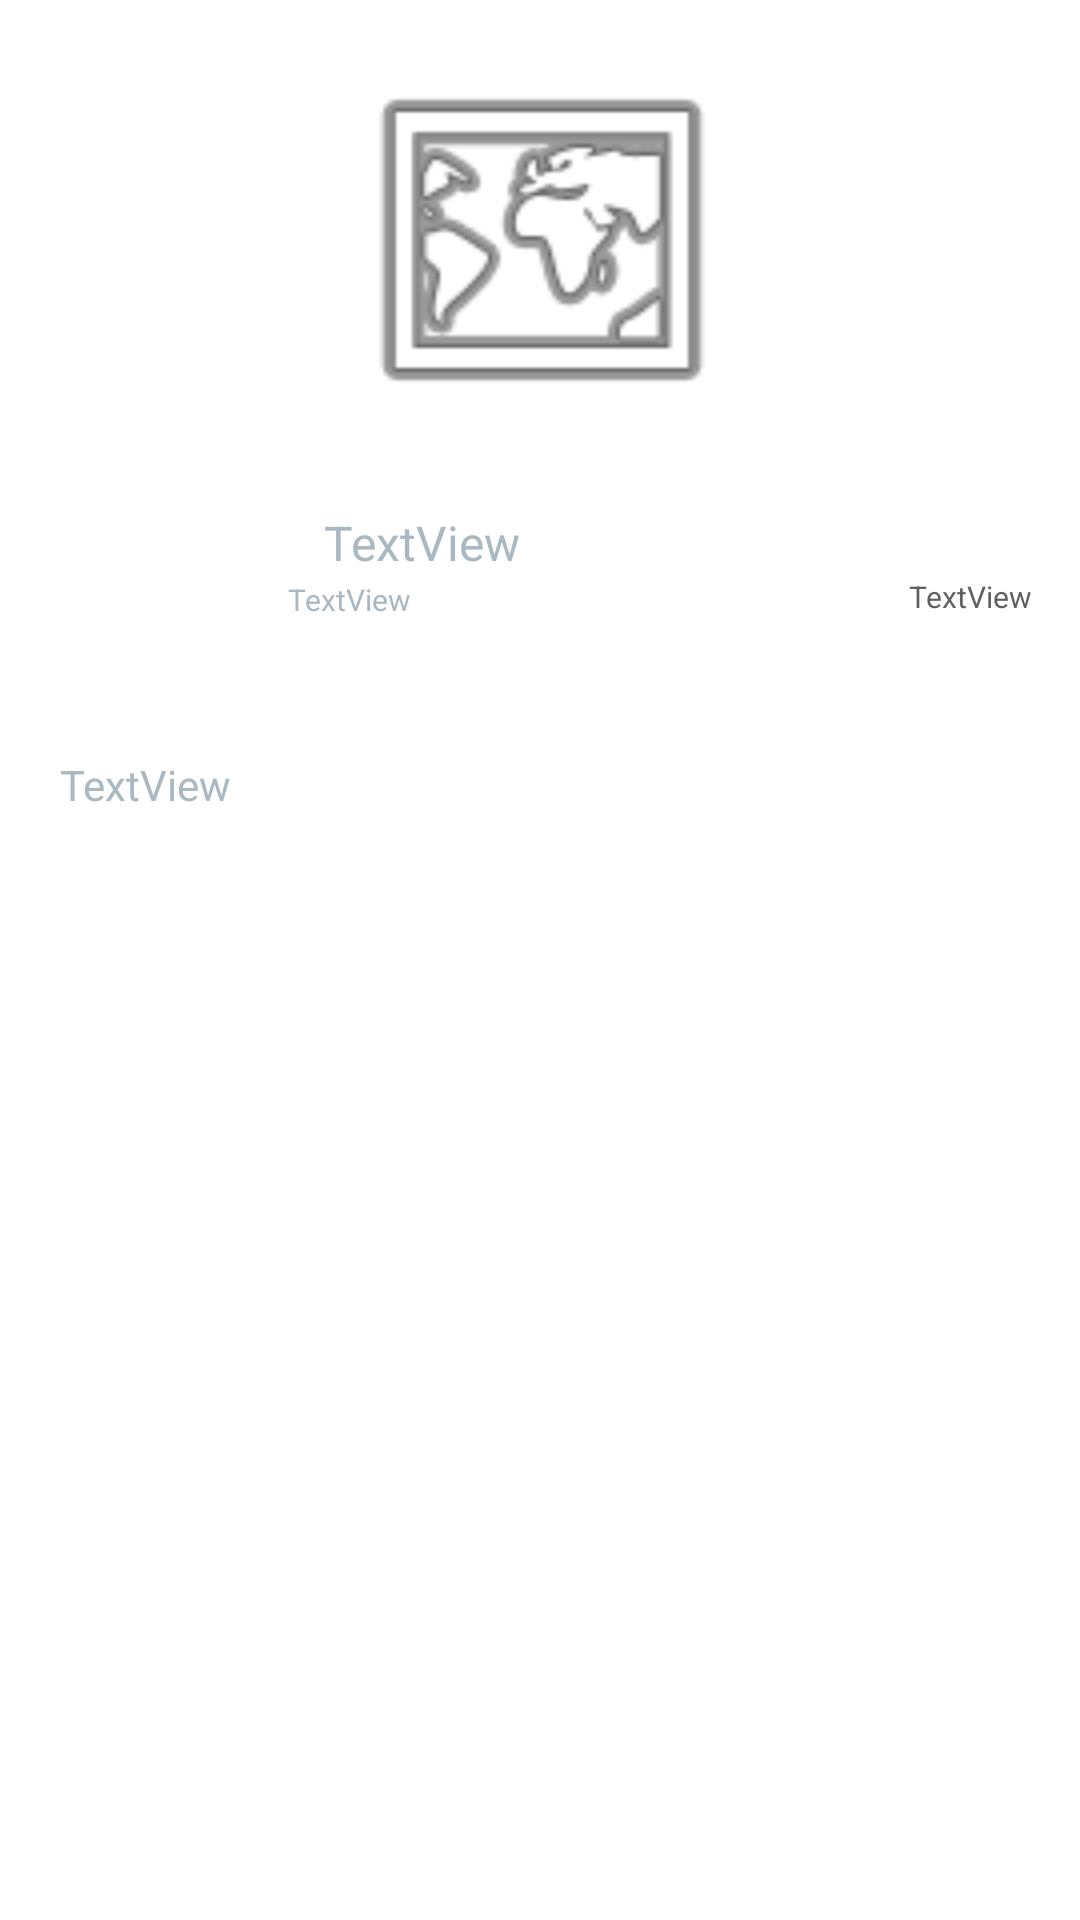

Where icons sit on this 1080w x 1920h app screen, as (x1, y1, x2, y2):
mapmode: (381, 99, 703, 381)
